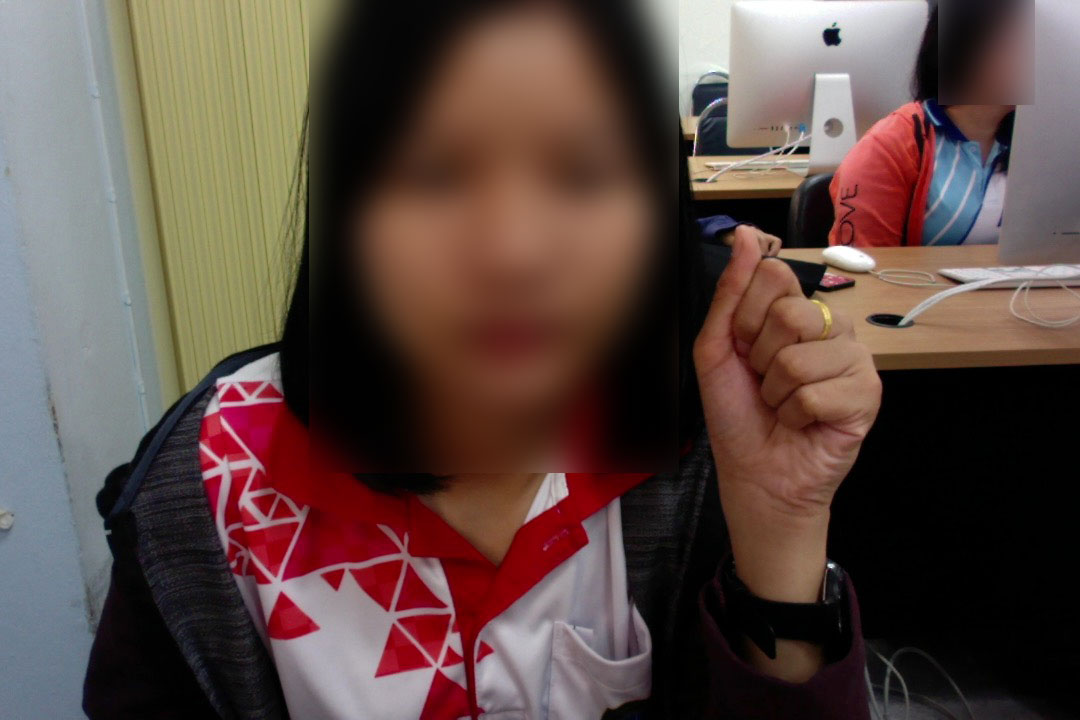or: (686, 215, 890, 525)
